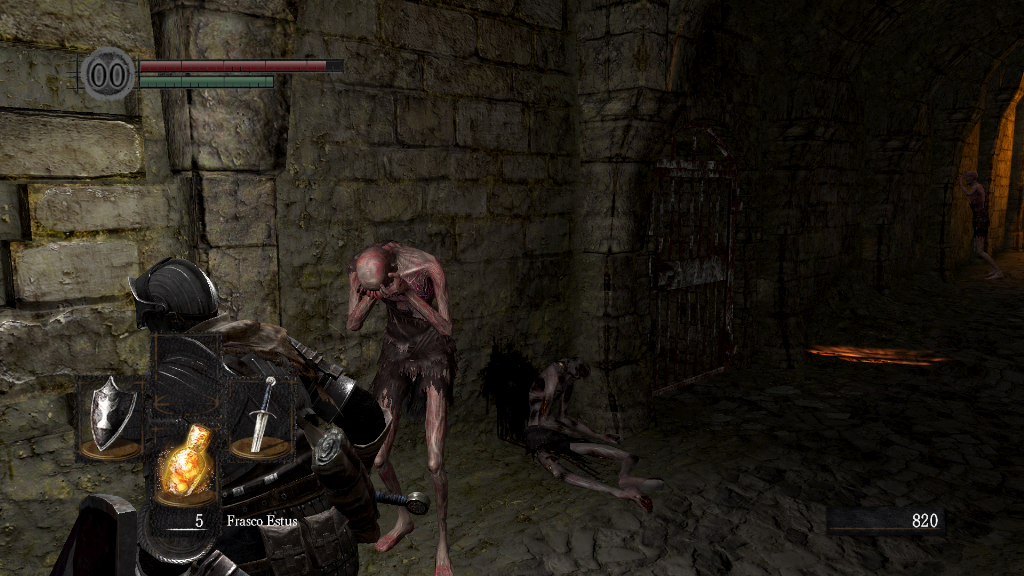health: (138, 58, 343, 71)
hollow: (346, 240, 454, 576)
humanity: (80, 45, 136, 102)
player: (49, 256, 432, 576)
souls: (825, 506, 945, 536)
stamina: (138, 74, 274, 88)
